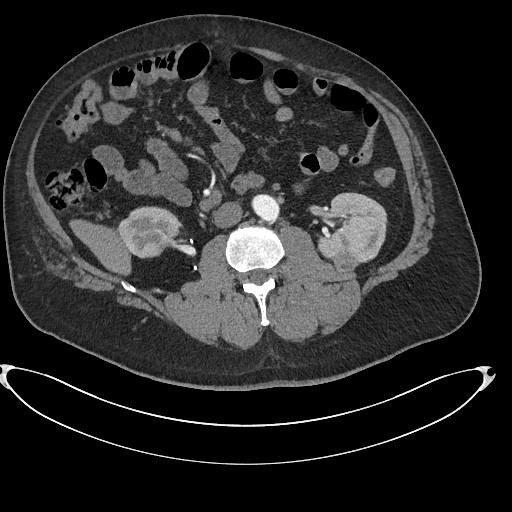Lesion: (329, 247, 359, 275)
